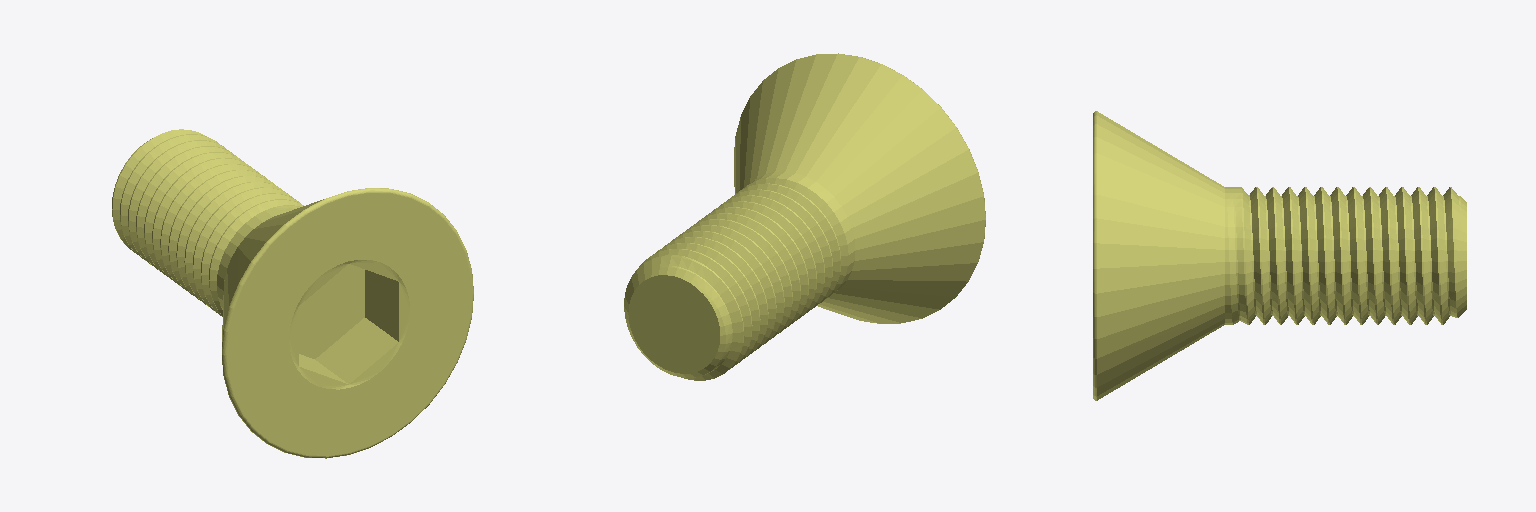
Rendered from screw.obj.
3 views of the same model, side by side, from view 1: azimuth 30°, elevation 25°; view 2: azimuth 150°, elevation 25°; view 3: azimuth 270°, elevation 25° (orthographic).
Visible parts, largest first — view 1: Bolt_3; view 2: Bolt_3; view 3: Bolt_3.
Boxes of the visible parts, x1,y1,x2,y2 form: Bolt_3: [112, 129, 473, 458]; Bolt_3: [624, 53, 985, 380]; Bolt_3: [1093, 111, 1466, 400].
Size of the model in its own units: 0.0079 by 0.0079 by 0.0102.